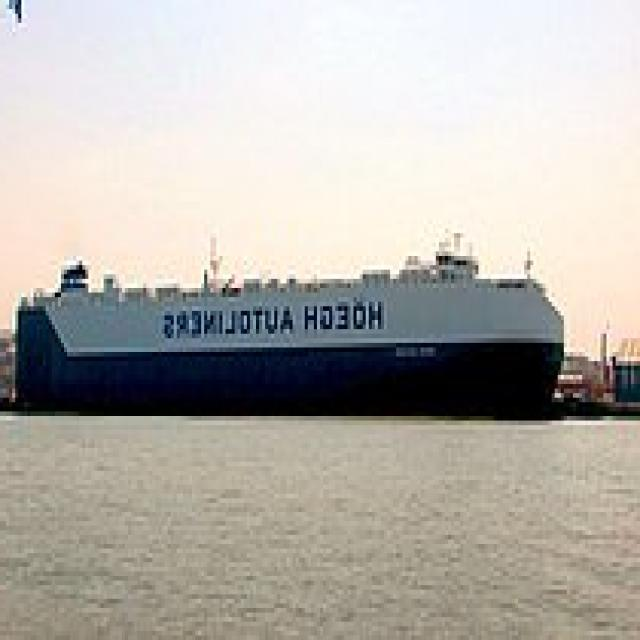Carrier: (12, 224, 570, 416)
